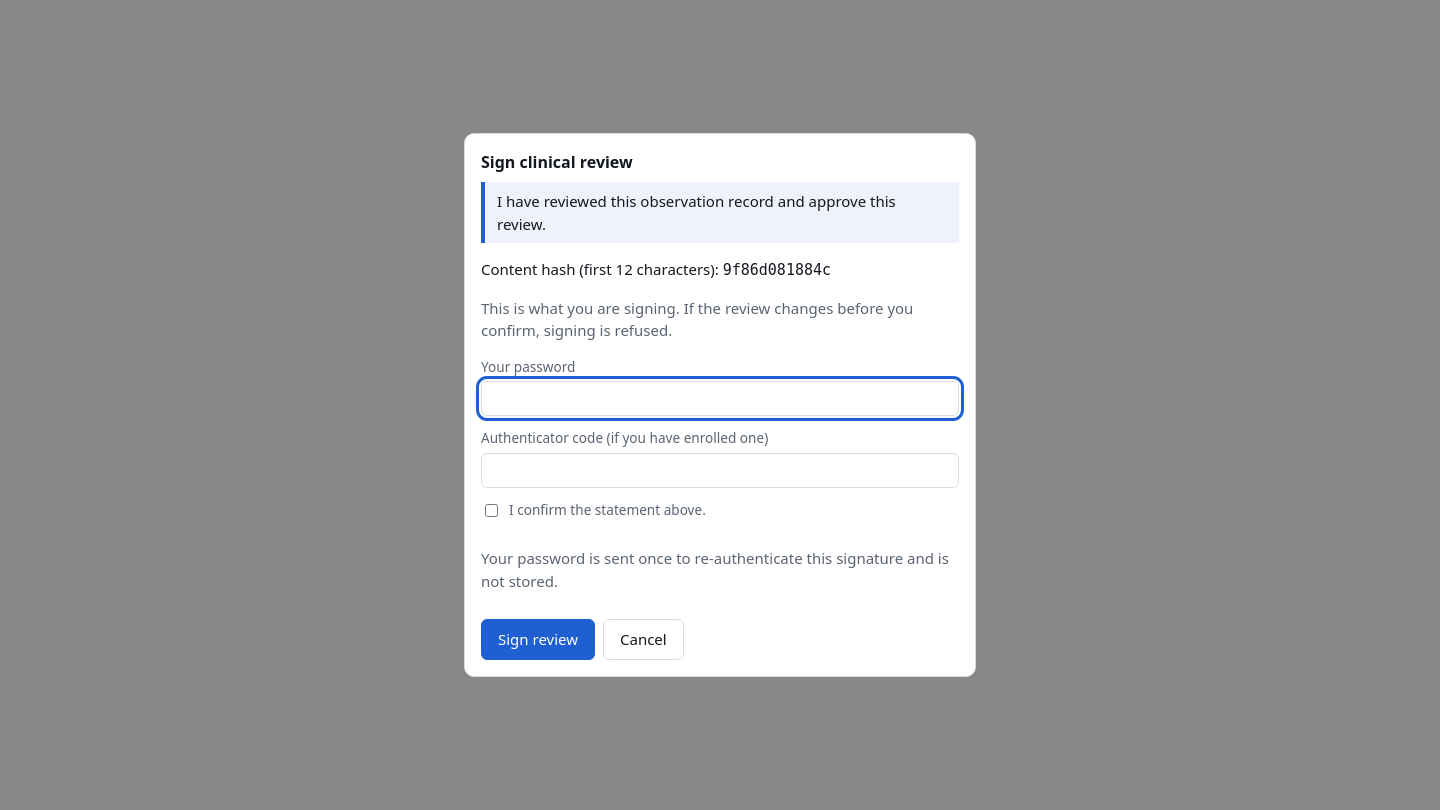
Test: SignDialog › explains reauthentication-failed clearly
Type "pw" into the password field labelled "Your password" at (720, 399), box [481,381,959,416]
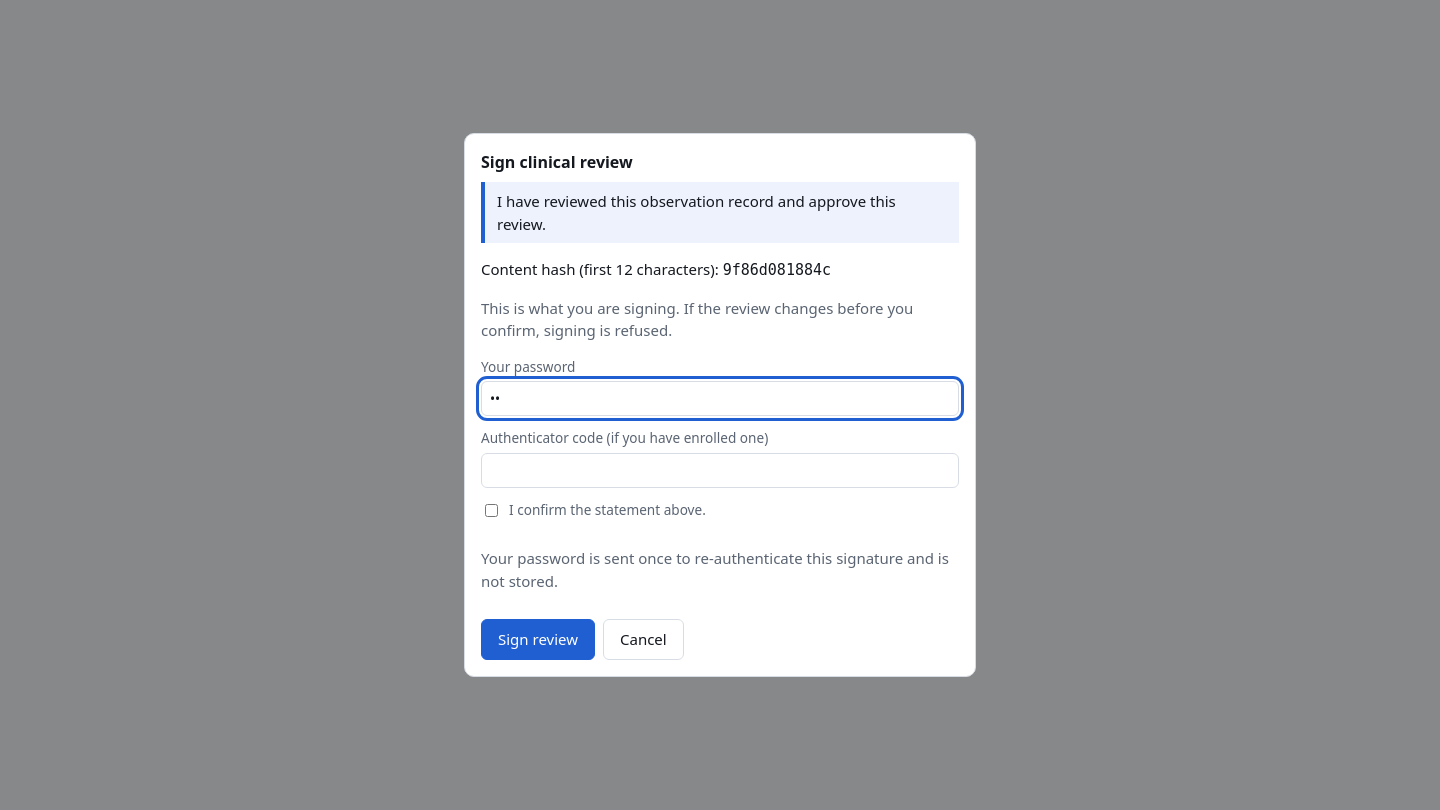
Click the checkbox labelled "I confirm the statement above." at (492, 510), box [485,504,498,516]
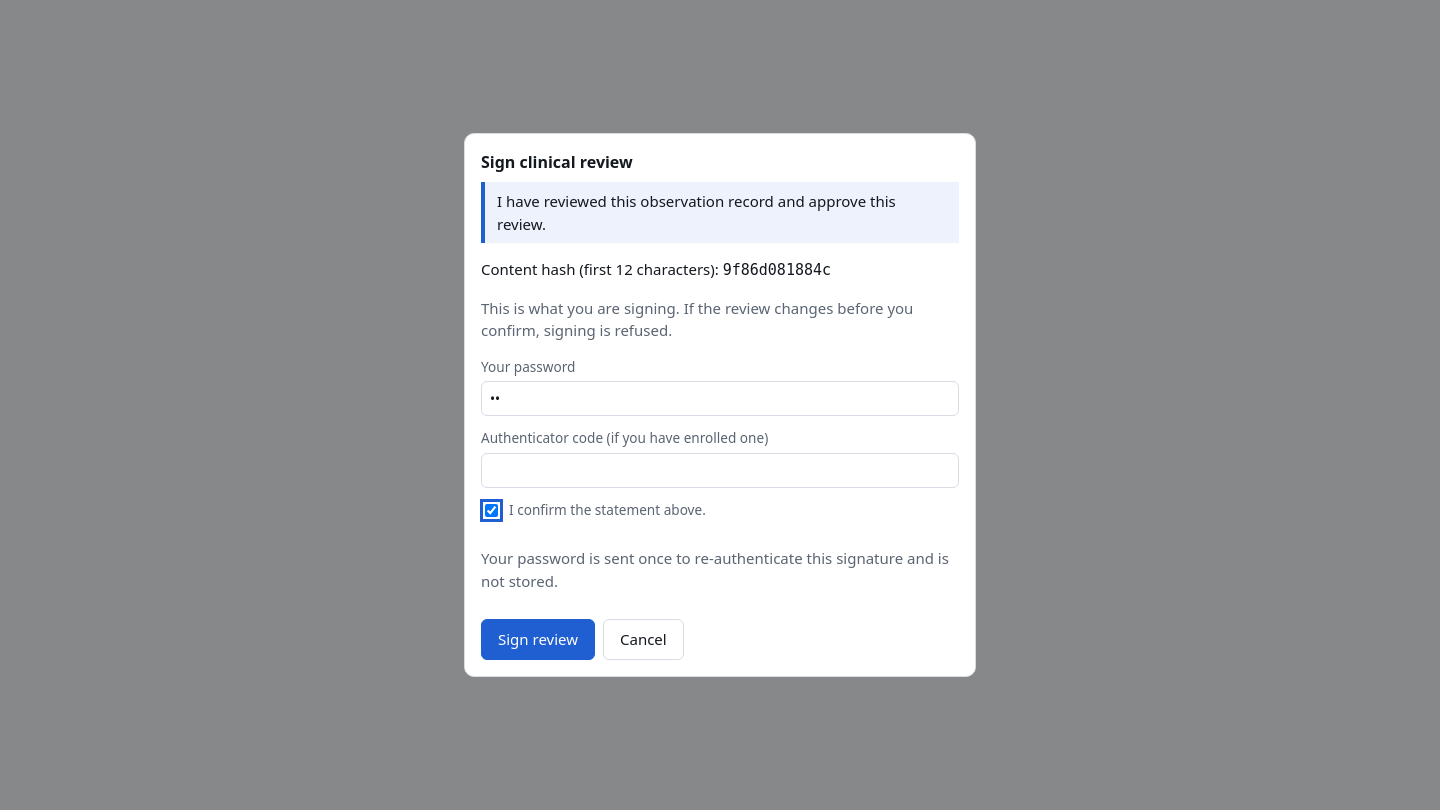
Click the button "Sign review" at (538, 640), box [481,619,595,660]
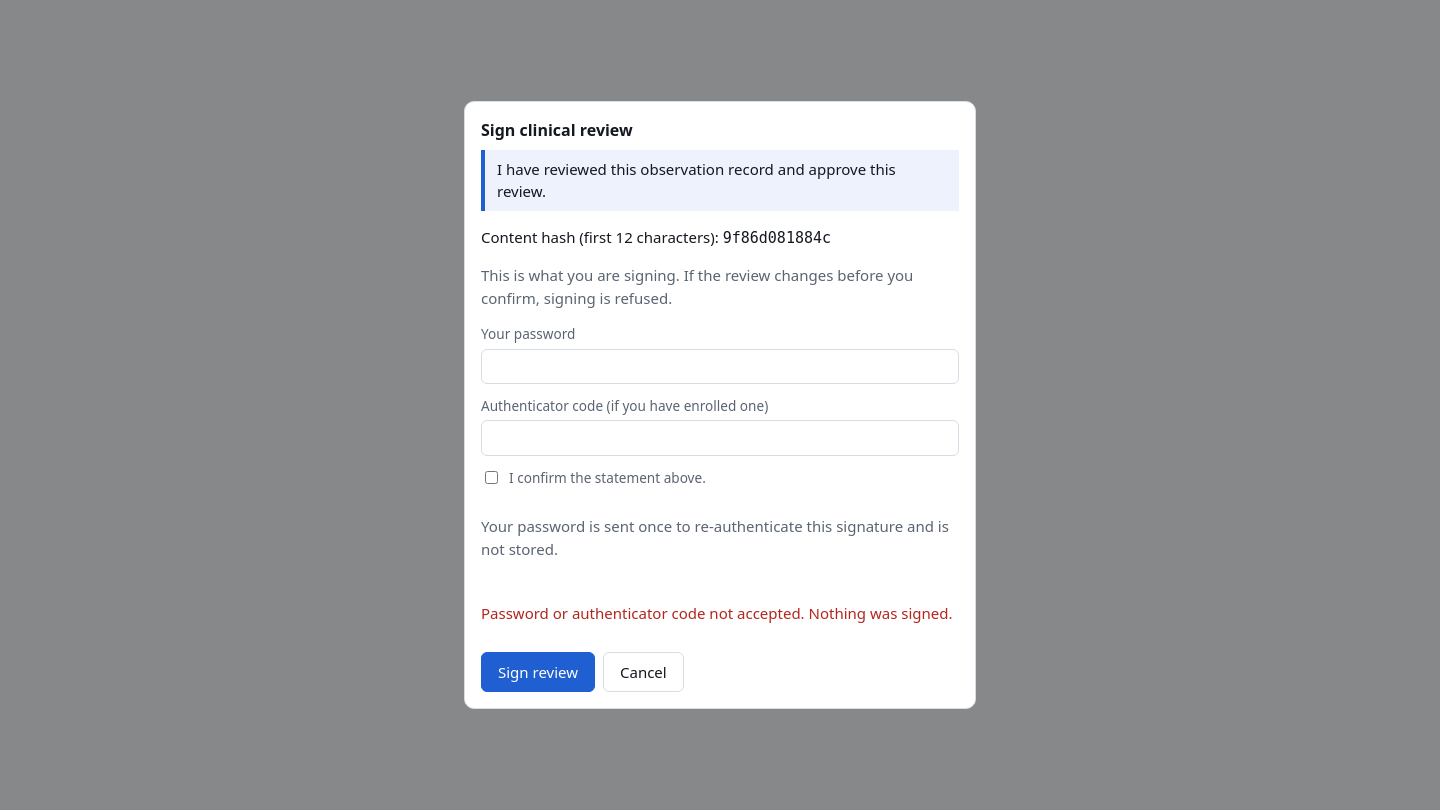
Expected: the message shows "Password or authenticator code not accepted", [481,603,952,623]
